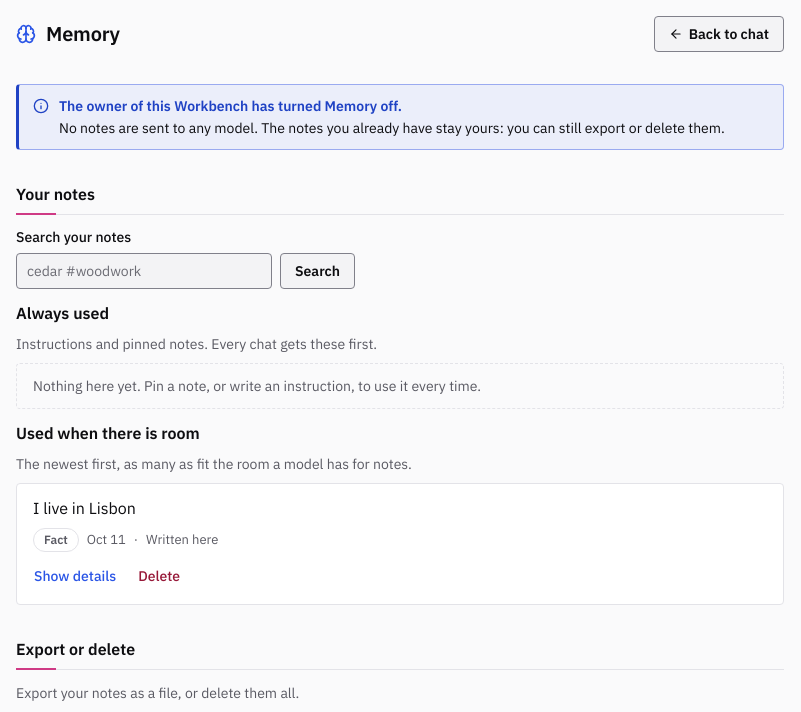
Test: when the owner has turned Memory off › still deletes a note, since that is allowed whatever the owner has set
Click the button with aria-label "Delete note: I live in Lisbon" at point(159, 576), box [129,560,189,592]
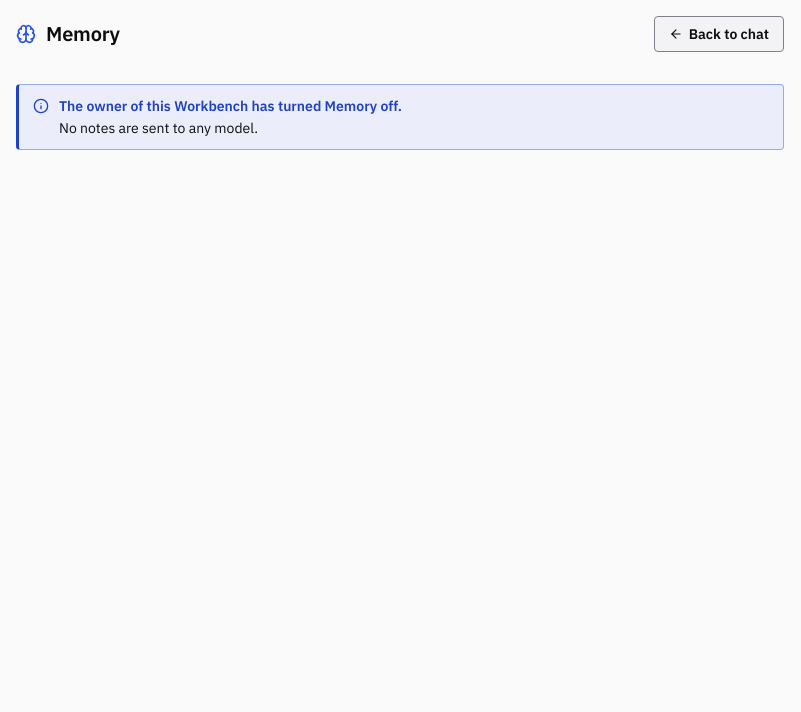
Result: the list item with test id "memory-note" is gone
